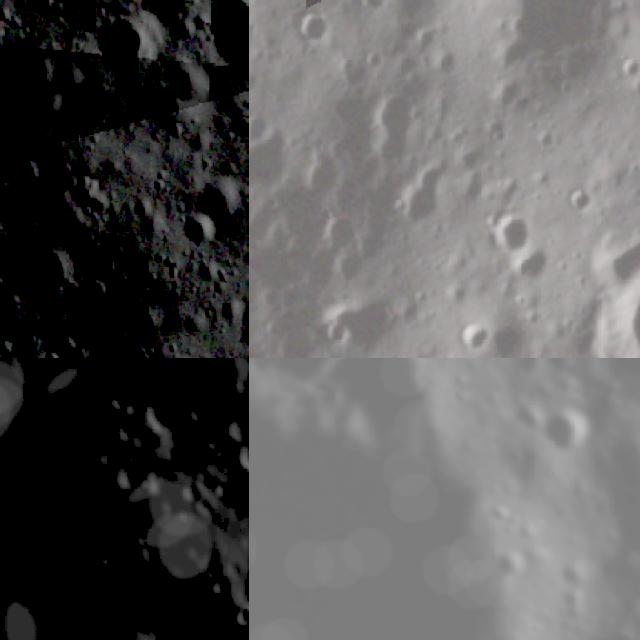crater: (249, 392, 557, 640), (0, 408, 112, 588), (8, 150, 100, 256), (495, 0, 618, 74), (361, 81, 432, 172), (6, 240, 75, 325), (581, 259, 640, 358), (109, 604, 249, 640), (87, 12, 147, 94), (385, 172, 452, 235), (249, 118, 300, 192), (297, 143, 354, 208), (202, 0, 249, 78), (215, 390, 249, 495), (538, 401, 596, 457), (476, 204, 535, 256), (138, 388, 188, 443), (249, 358, 363, 382), (168, 55, 216, 110), (319, 210, 364, 258), (173, 209, 221, 251), (584, 358, 640, 394), (15, 48, 59, 91), (75, 269, 113, 317), (453, 318, 499, 356), (290, 8, 335, 46), (126, 298, 168, 336), (271, 326, 319, 358), (558, 184, 596, 221), (428, 43, 462, 77), (317, 318, 354, 349), (486, 548, 526, 576), (104, 344, 161, 358), (349, 0, 389, 17)
